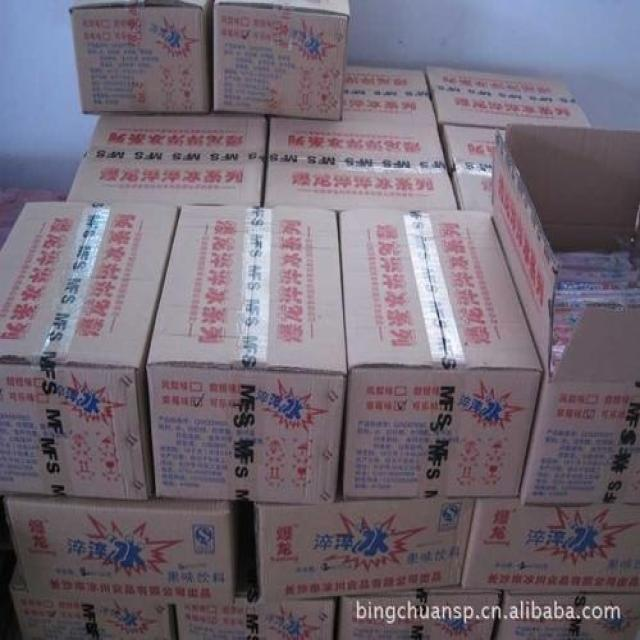box: (339, 209, 543, 501), (148, 205, 347, 501), (493, 123, 640, 504), (0, 202, 179, 498), (262, 66, 458, 210), (4, 494, 237, 603), (255, 498, 476, 599), (67, 110, 268, 206), (461, 497, 640, 592), (214, 0, 349, 121), (70, 0, 209, 114), (12, 561, 175, 639), (425, 69, 593, 127), (340, 584, 500, 640), (175, 589, 335, 640), (497, 592, 639, 639), (439, 124, 508, 210)
